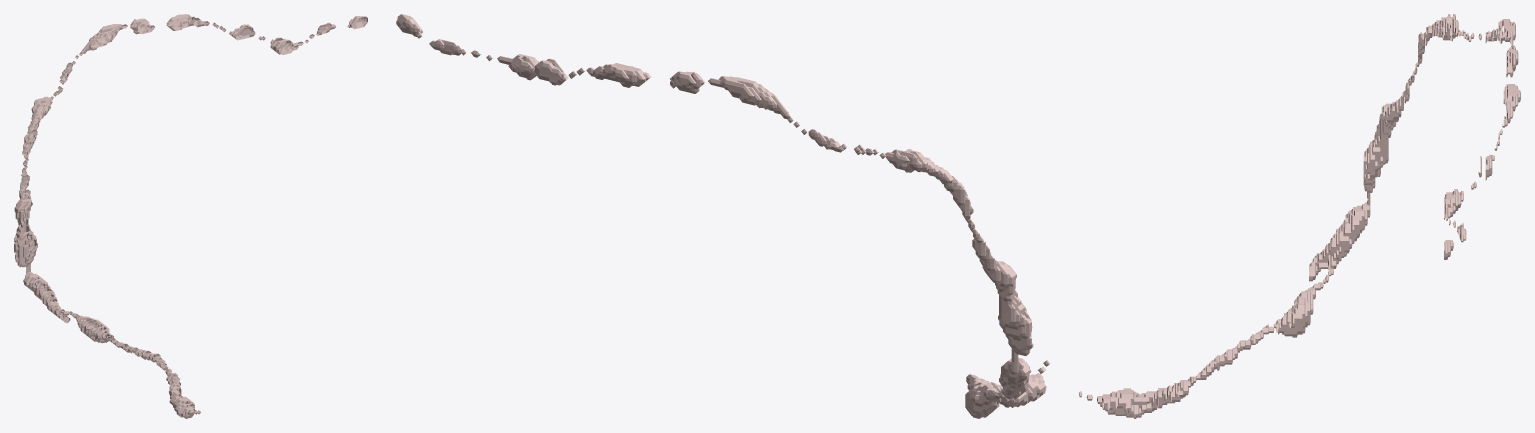
Rendered from SVV_AVHR.gltf.
The picture shows the model from 3 angles, left to right: view 1: azimuth 30°, elevation 25°; view 2: azimuth 150°, elevation 25°; view 3: azimuth 270°, elevation 25°; orthographic projection. The views are drawn at different scales.
Parts seen in each view (by area): view 1: AVHR; view 2: AVHR; view 3: AVHR.
Part boxes in pixels (box(x1,y1,x2,y2)): AVHR: box(14, 14, 367, 418); AVHR: box(396, 14, 1050, 418); AVHR: box(1079, 14, 1520, 418).
Size of the model in its own units: 97330 by 70180 by 65426.
